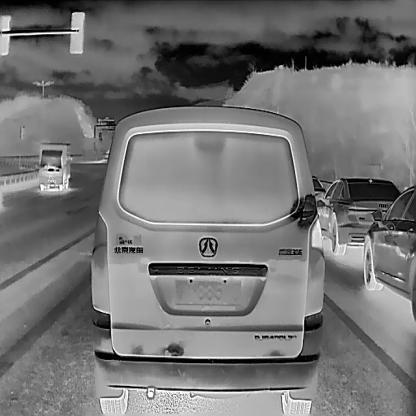car: (91, 104, 325, 413), (312, 175, 415, 254), (363, 185, 415, 323), (38, 138, 72, 193)
